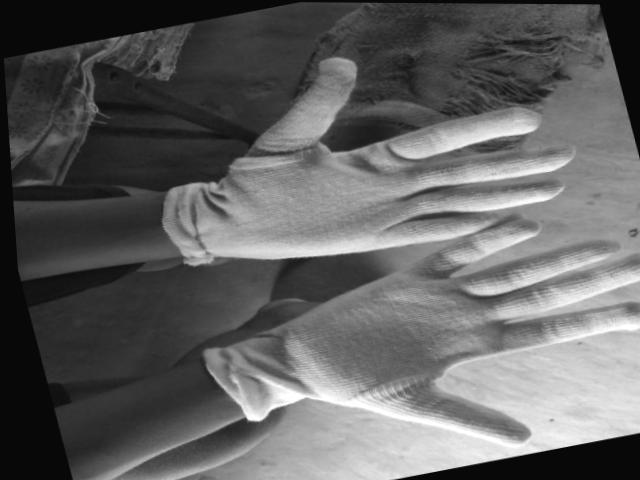Hand-in-Glove: (91, 0, 610, 298), (170, 196, 640, 480)
